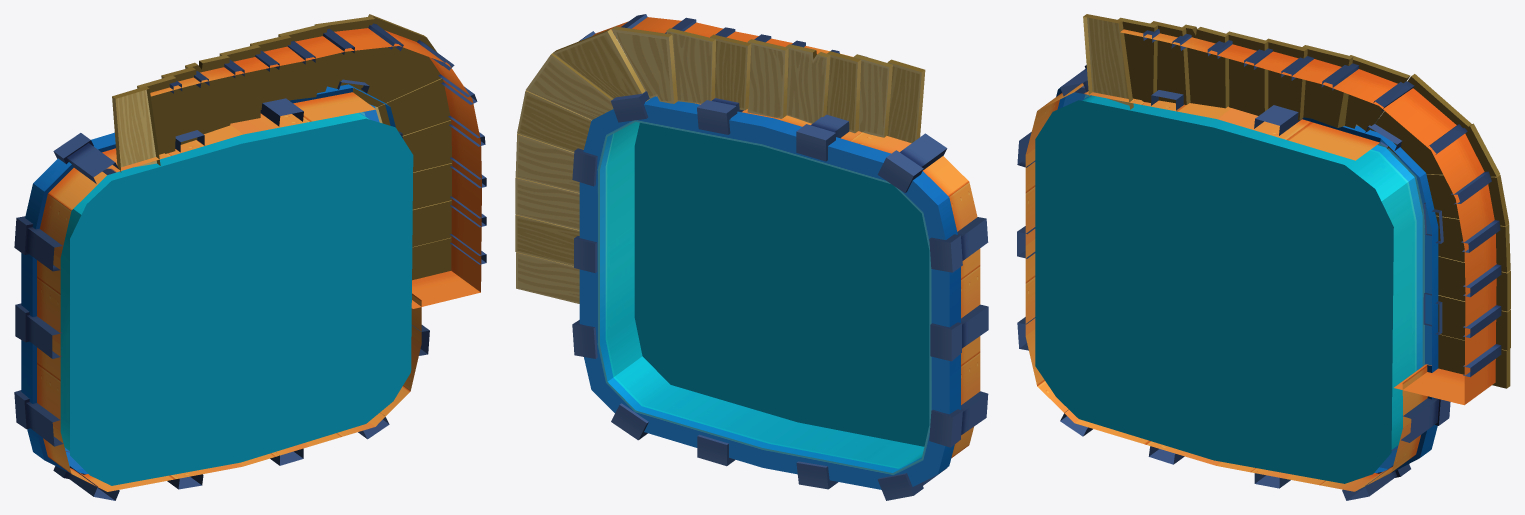
File: SwimmingPool.fbx
3 renders of one model, left to right at view 1: azimuth 30°, elevation 25°; view 2: azimuth 150°, elevation 25°; view 3: azimuth 330°, elevation 25°, orthographic. The views are drawn at different scales.
Visible parts, largest first — view 1: SwimmingPool; view 2: SwimmingPool; view 3: SwimmingPool.
Boxes of the visible parts, left/top/right/bottom form: SwimmingPool: left=14, top=14, right=486, bottom=500; SwimmingPool: left=515, top=14, right=988, bottom=500; SwimmingPool: left=1017, top=14, right=1510, bottom=500.
Bounding box in the file's own units: 775 × 694 × 113.
